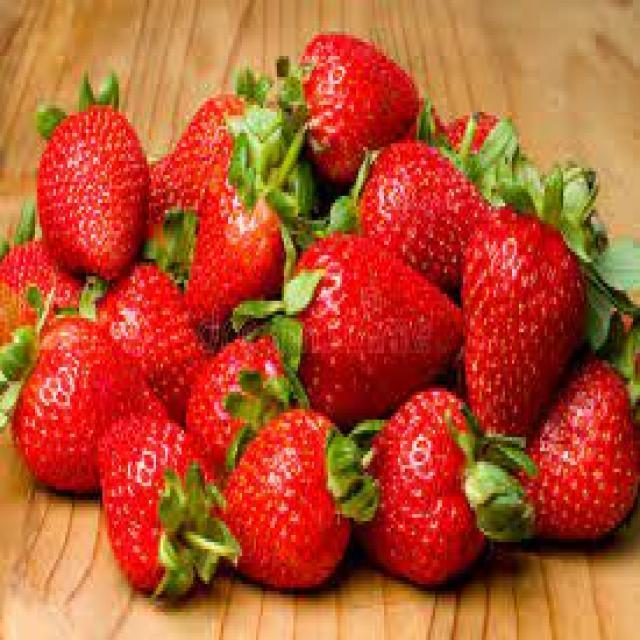Strawberry: (354, 384, 536, 588), (286, 227, 463, 423), (458, 202, 589, 438), (15, 314, 180, 493), (218, 406, 378, 588), (95, 409, 240, 598), (35, 70, 149, 280), (524, 353, 638, 542), (354, 137, 488, 290), (293, 28, 421, 186), (184, 326, 308, 476), (92, 262, 208, 419), (188, 169, 289, 329), (145, 85, 257, 225), (0, 236, 80, 327)
